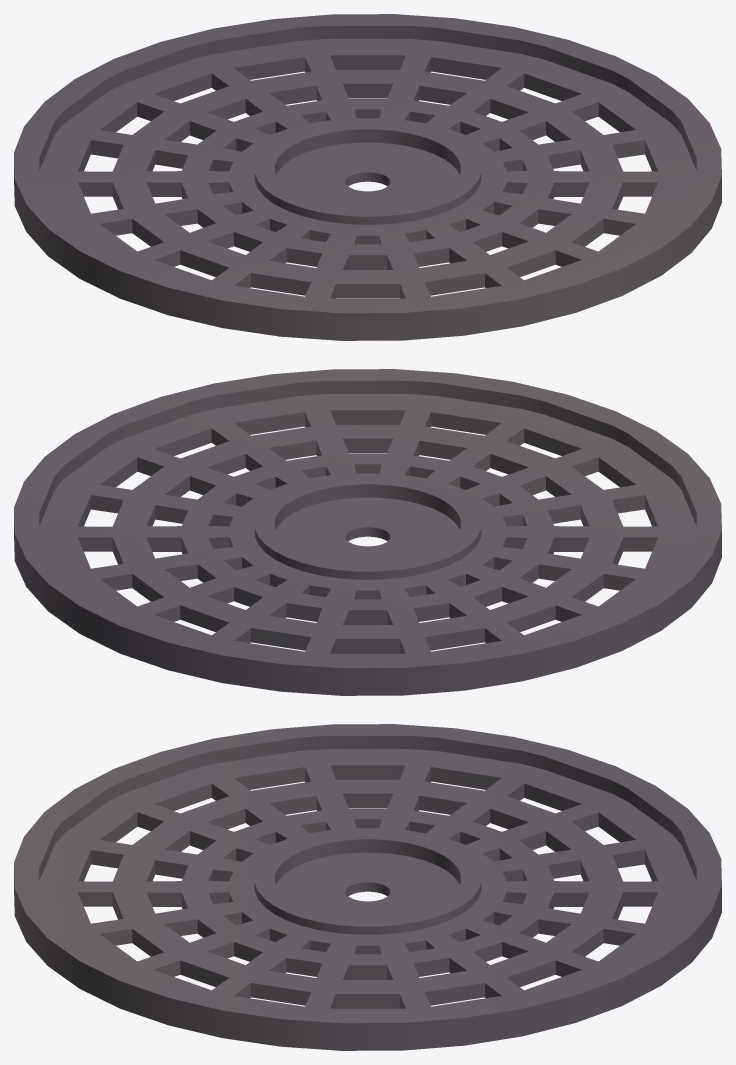
The model's file is PR_SewerGrate.fbx.
The picture shows the model from 3 angles, top to bottom: view 1: azimuth 30°, elevation 25°; view 2: azimuth 150°, elevation 25°; view 3: azimuth 270°, elevation 25°; orthographic projection.
Visible parts, largest first — view 1: PR_SewerGrate; view 2: PR_SewerGrate; view 3: PR_SewerGrate.
Boxes of the visible parts, box(x1,y1,x2,y2) form: PR_SewerGrate: box(14, 14, 721, 340); PR_SewerGrate: box(14, 369, 721, 695); PR_SewerGrate: box(14, 724, 721, 1050).
Bounding box in the file's own units: 82.65 × 3.56 × 82.65.
Materials: 1 (1 with a texture image).
